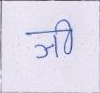i_matra: (57, 18, 72, 54)
